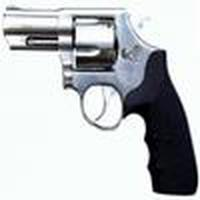gun: (5, 1, 200, 198)
